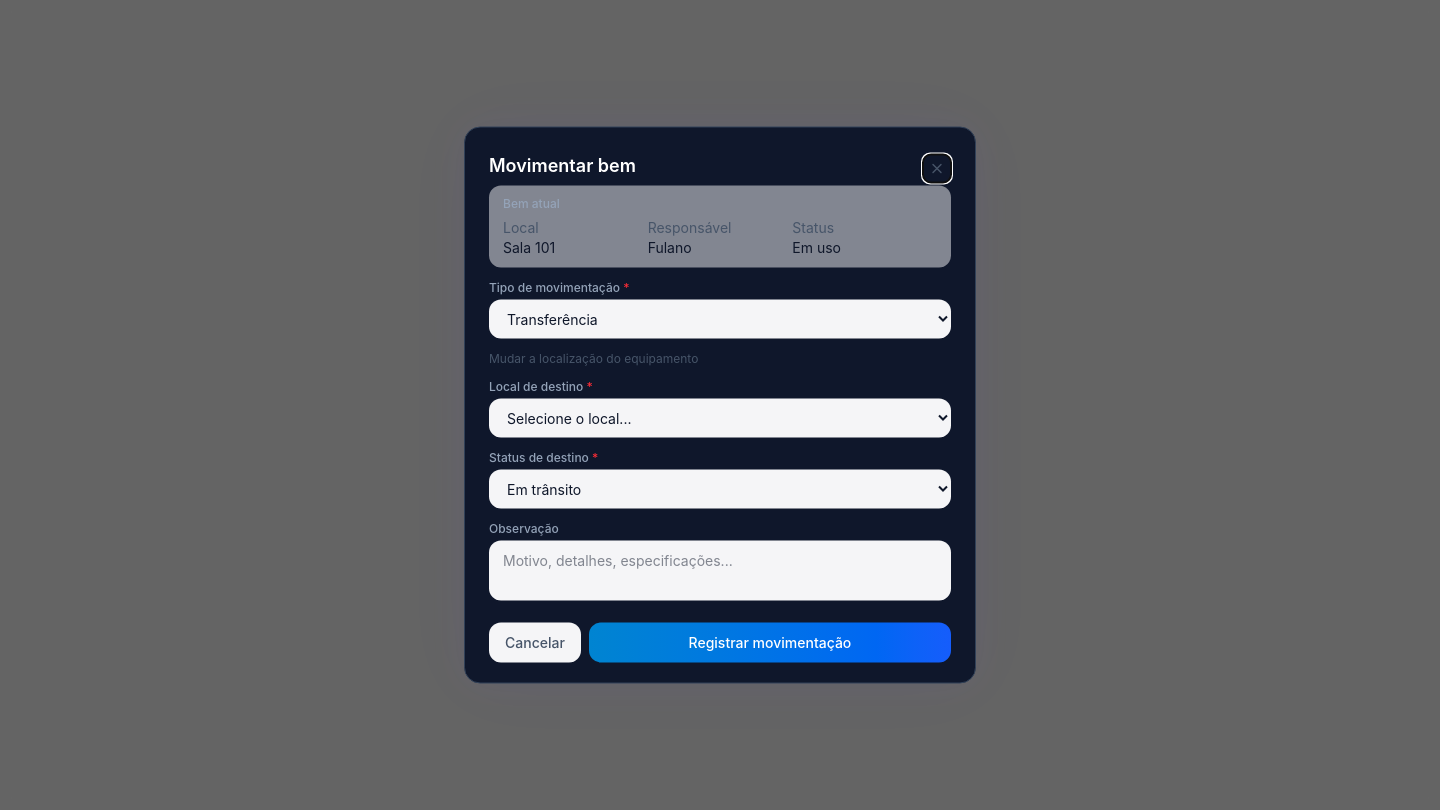
Test case: MovementFormModal › troca para empréstimo ⇒ exige responsável
Select "Empréstimo" in the dropdown named "Tipo de movimentação" at [720, 319], box [489,300,951,338]
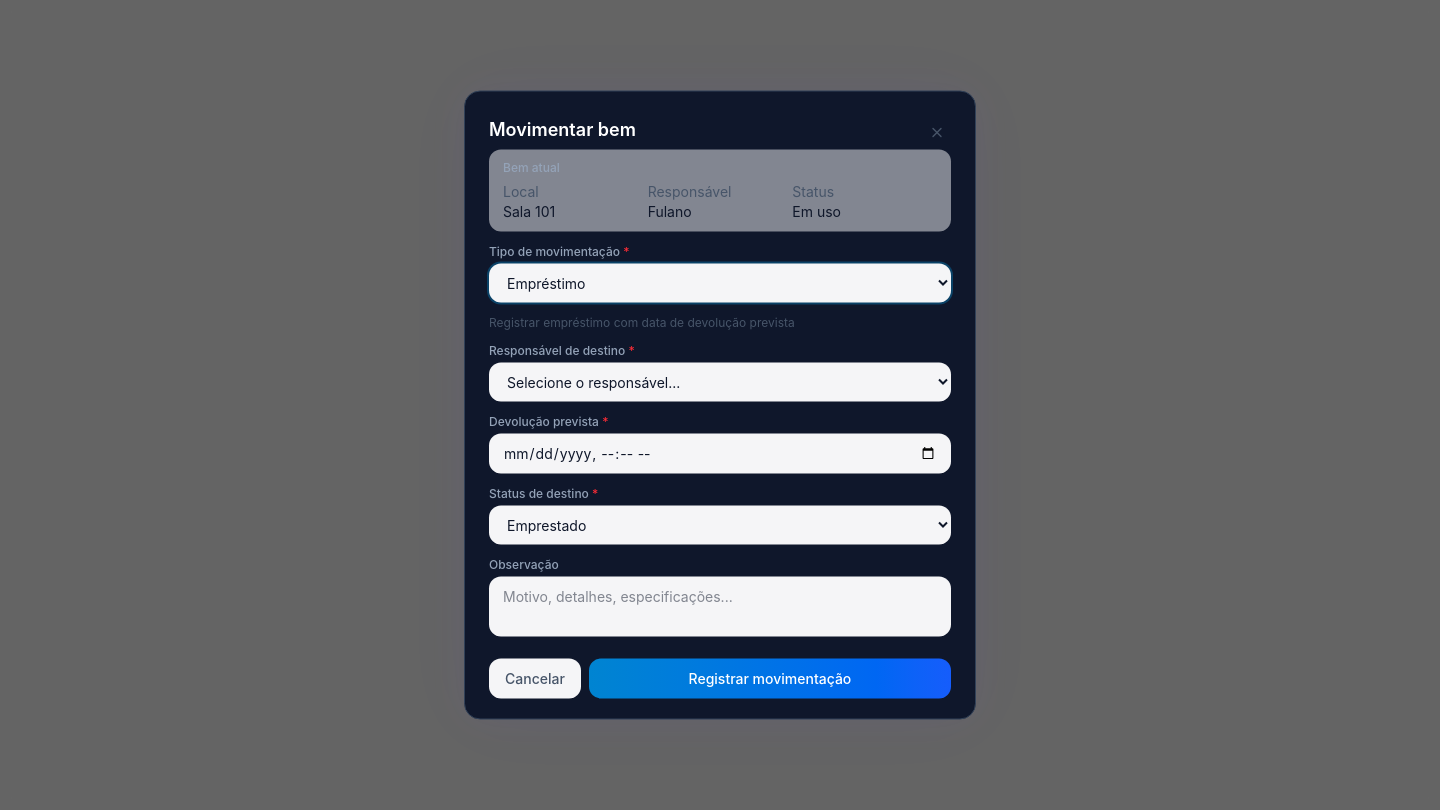
Click the button "Registrar movimentação" at [770, 678], box [589,658,951,698]
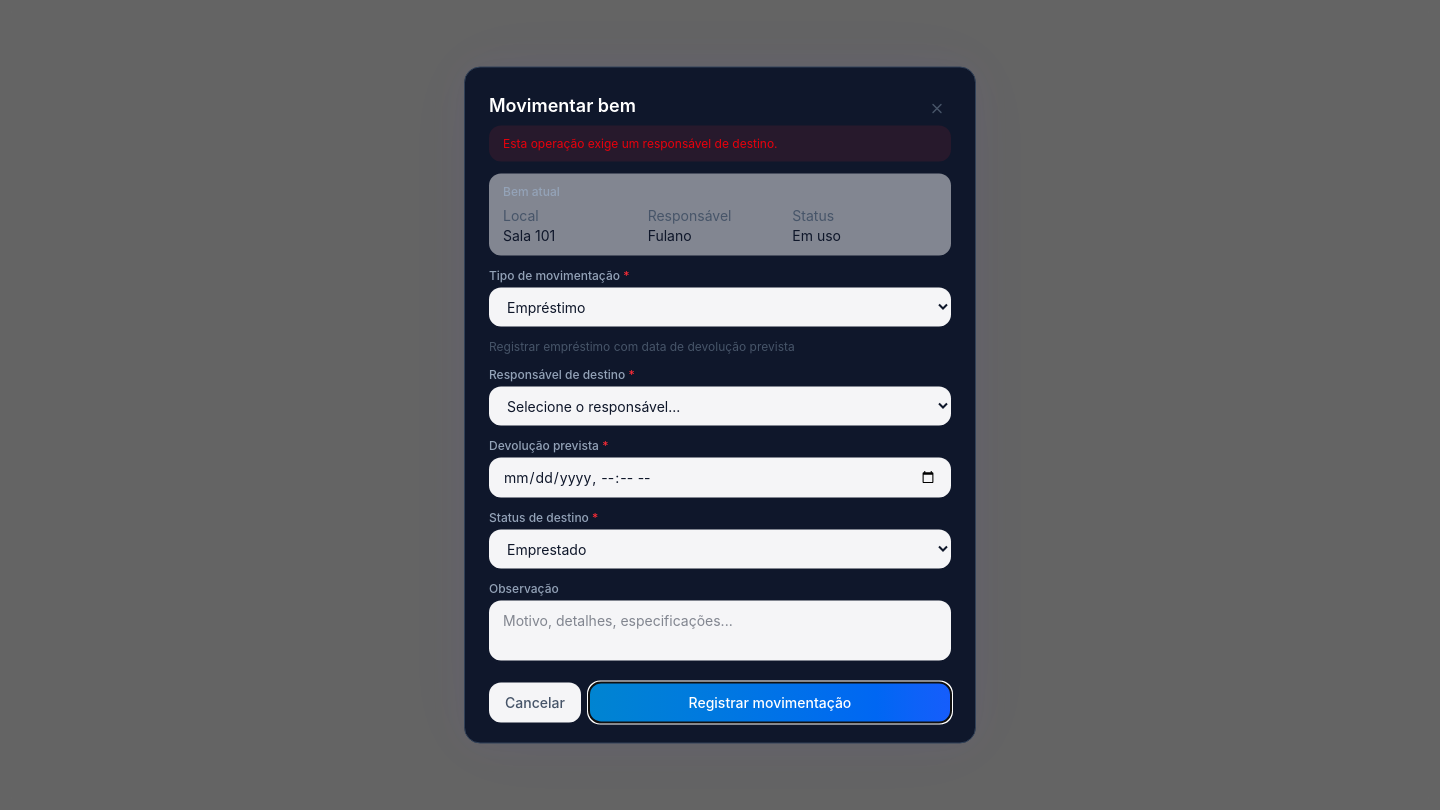
Check: the text "Esta operação exige um responsável de destino." is shown, box [489,126,951,162]
